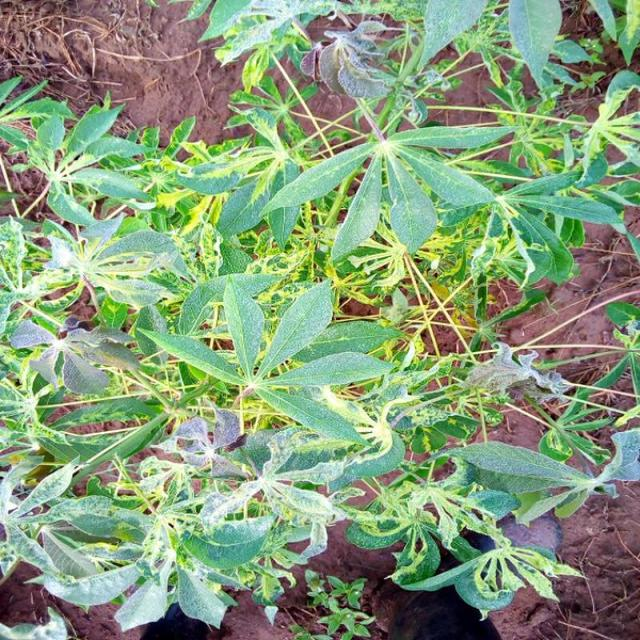cassava leaf: (261, 110, 516, 264)
